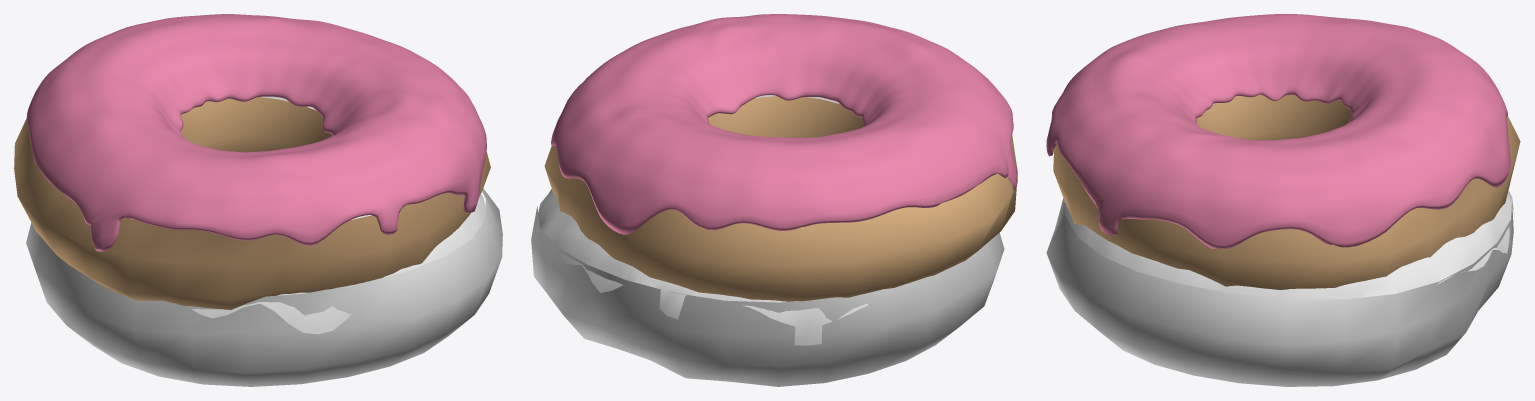
File: donut.glb
3 renders of one model, left to right at view 1: azimuth 30°, elevation 25°; view 2: azimuth 150°, elevation 25°; view 3: azimuth 270°, elevation 25°, orthographic.
Visible parts, largest first — view 1: Icing.001, Donut, Donut.001, Icing; view 2: Icing.001, Donut.001, Donut, Icing; view 3: Icing.001, Donut, Donut.001, Icing.
Part boxes in pixels (x1,y1,x2,y2): Icing.001: (26,14,486,251); Donut: (26,188,502,386); Donut.001: (14,97,490,309); Icing: (80,96,485,334); Icing.001: (551,14,1017,234); Donut.001: (544,96,1017,301); Donut: (531,206,1004,386); Icing: (538,94,976,345); Icing.001: (1046,14,1511,248); Donut: (1046,198,1513,386); Donut.001: (1053,94,1520,289); Icing: (1064,191,1514,299).
Size of what is drawn, in the model's own units: 0.1604 by 0.0826 by 0.1519.
